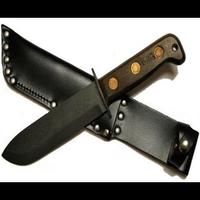knife: (2, 38, 184, 168)
